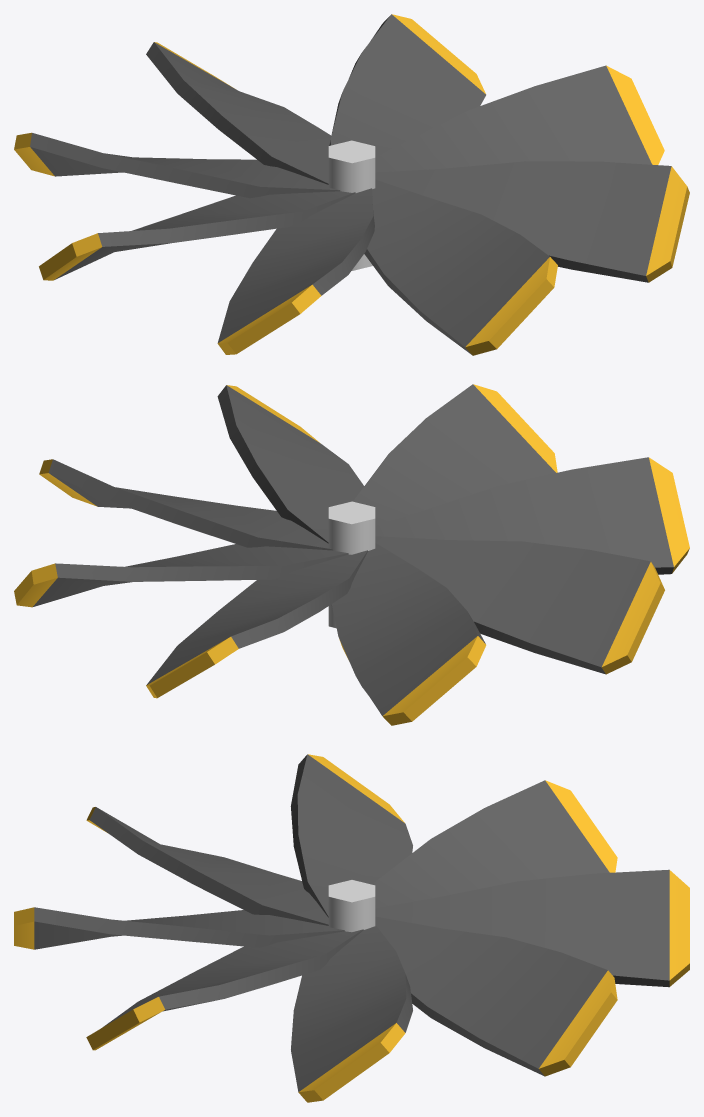
File: space_station_decoration_017.fbx
The picture shows the model from 3 angles, top to bottom: view 1: azimuth 30°, elevation 25°; view 2: azimuth 150°, elevation 25°; view 3: azimuth 270°, elevation 25°; orthographic projection.
Visible parts, largest first — view 1: space_station_decoration_017; view 2: space_station_decoration_017; view 3: space_station_decoration_017.
Part boxes in pixels (bbox=[...]): space_station_decoration_017: bbox=[14, 14, 689, 355]; space_station_decoration_017: bbox=[14, 384, 689, 725]; space_station_decoration_017: bbox=[14, 754, 689, 1102].
Size of the model in its own units: 103 by 103 by 18.49.
